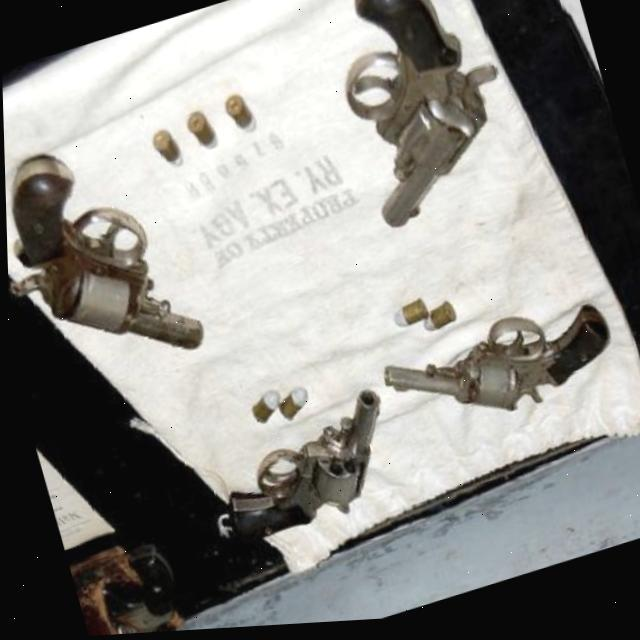gun: (3, 116, 212, 400), (311, 0, 533, 247), (375, 299, 620, 449), (204, 389, 404, 557), (64, 535, 188, 638)
